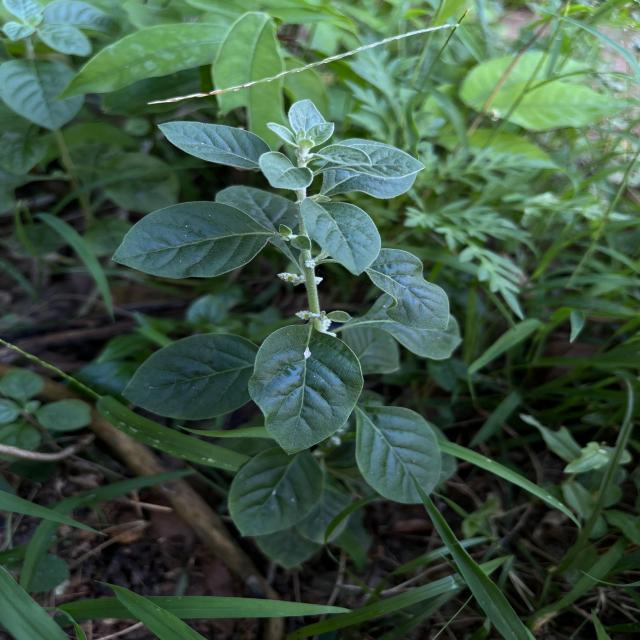Aerva lanata: (245, 321, 368, 458), (106, 198, 273, 281), (119, 330, 262, 422), (365, 242, 453, 332), (298, 196, 384, 279), (156, 118, 274, 172), (256, 149, 316, 193), (313, 142, 377, 170)
